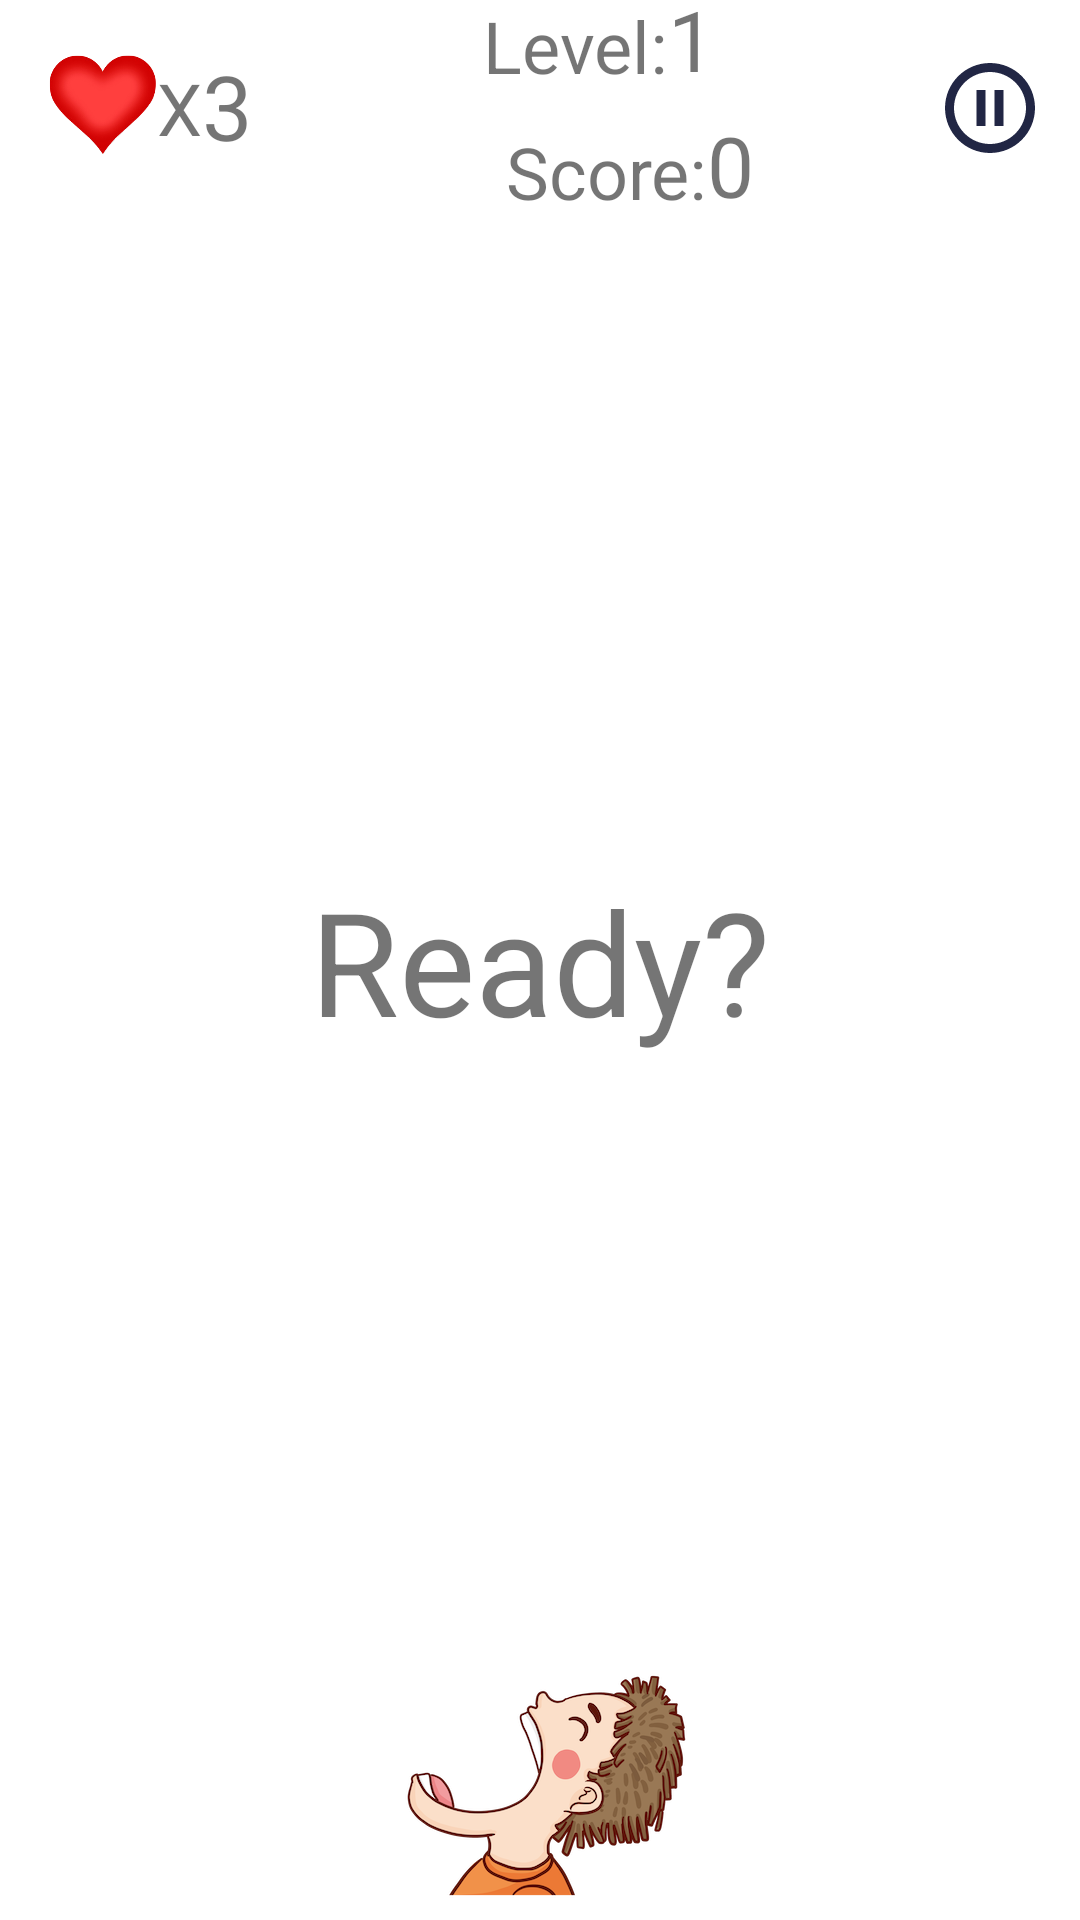

Icons on this 1080w x 1920h Android screen, each with the point to tap as [x,y]:
live: [103,104]
mouth: [546,1786]
pause: [990,108]
